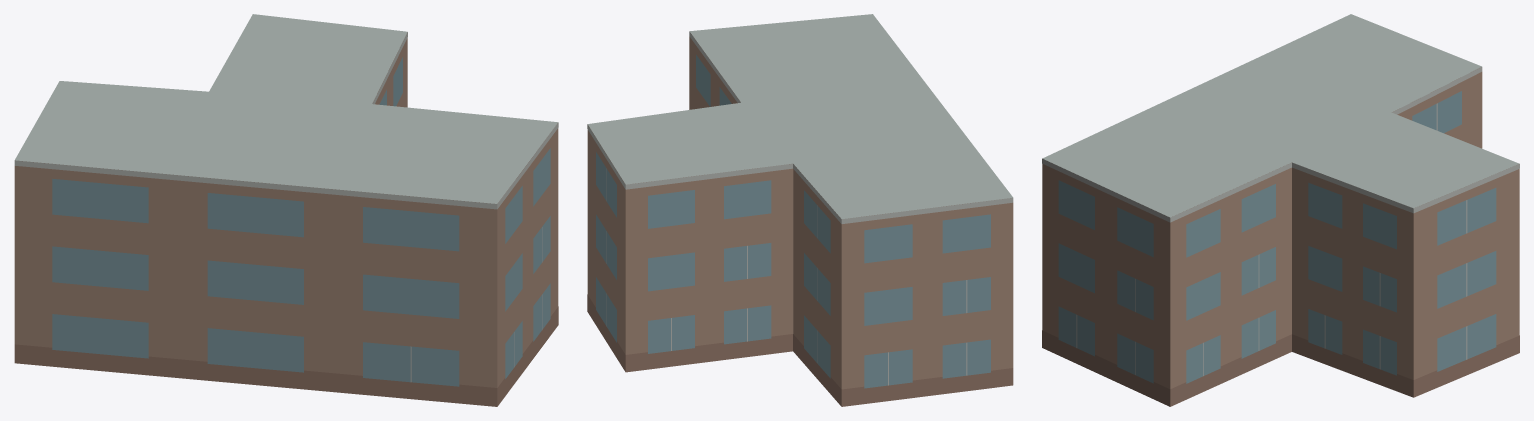
Rendered from survey-upis-32470982.glb.
3 renders of one model, left to right at view 1: azimuth 30°, elevation 25°; view 2: azimuth 150°, elevation 25°; view 3: azimuth 270°, elevation 25°, orthographic. The views are drawn at different scales.
Parts seen in each view (by area): view 1: survey-upis-32470982.tmp; view 2: survey-upis-32470982.tmp; view 3: survey-upis-32470982.tmp.
Boxes of the visible parts, x1,y1,x2,y2 form: survey-upis-32470982.tmp: (14, 14, 558, 406); survey-upis-32470982.tmp: (587, 14, 1013, 406); survey-upis-32470982.tmp: (1042, 14, 1519, 406).
Bounding box in the file's own units: 21.11 × 9.15 × 20.92.
